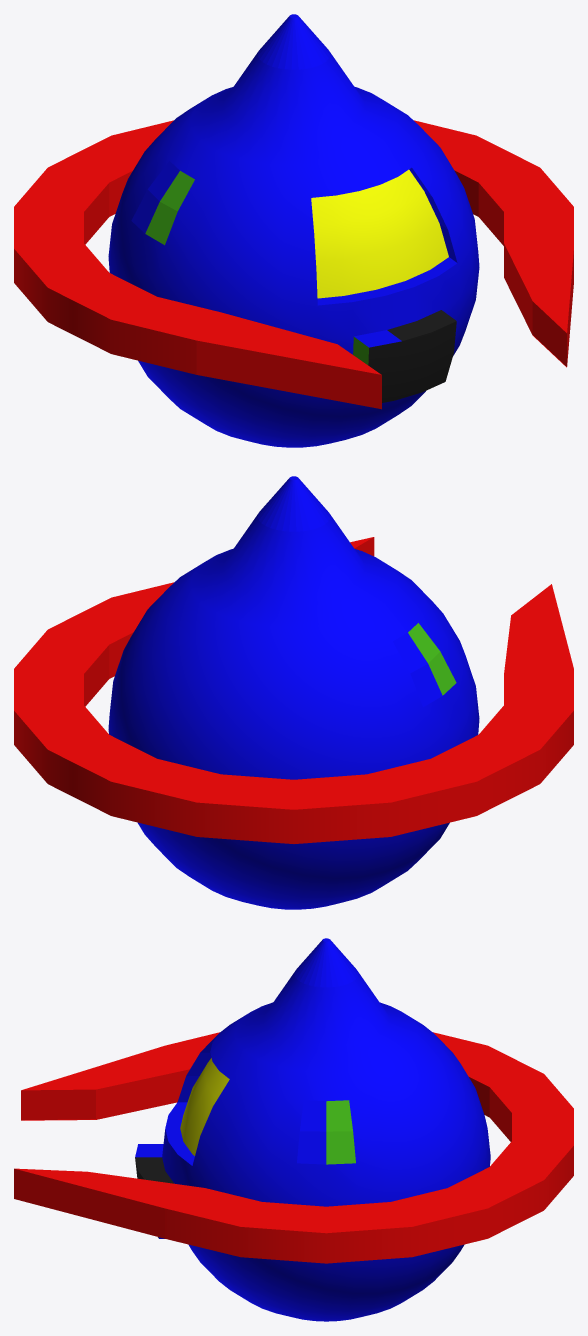
The model's file is space player.fbx.
3 views of the same model, one above another, from view 1: azimuth 30°, elevation 25°; view 2: azimuth 150°, elevation 25°; view 3: azimuth 270°, elevation 25° (orthographic). The views are drawn at different scales.
Visible parts, largest first — view 1: Cylinder002; view 2: Cylinder002; view 3: Cylinder002.
Boxes of the visible parts, bbox=[...] form: Cylinder002: bbox=[14, 14, 573, 447]; Cylinder002: bbox=[14, 476, 573, 909]; Cylinder002: bbox=[14, 938, 573, 1321].
Bounding box in the file's own units: 63.3 × 50.91 × 70.52.
